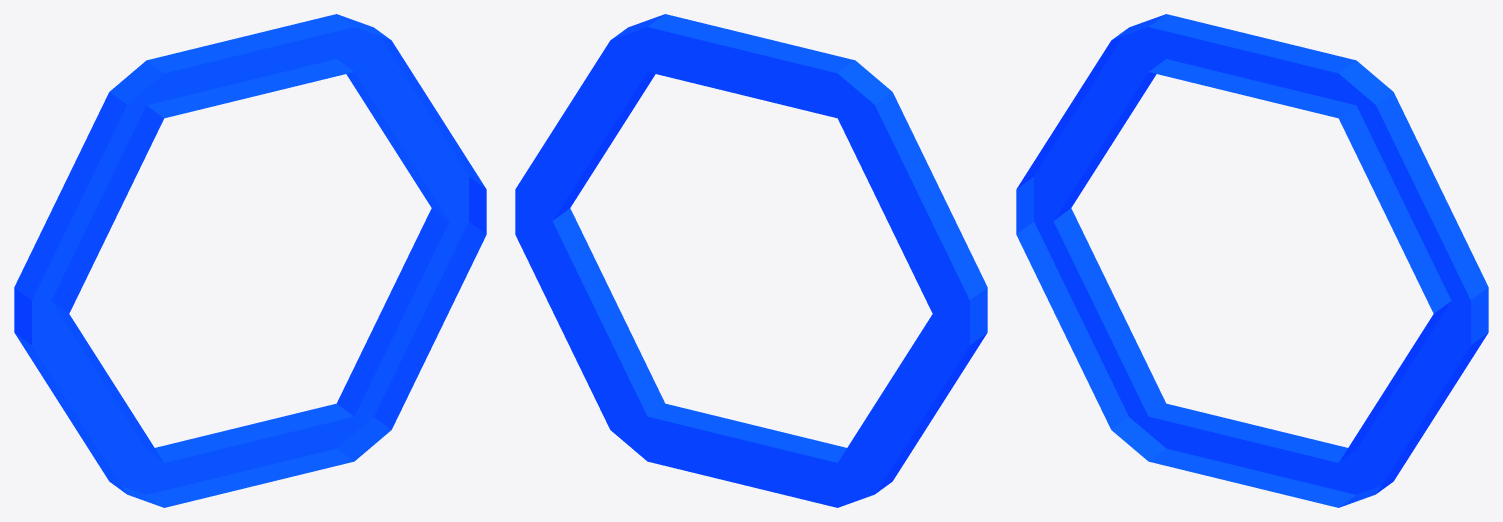
The model's file is HoneyComb.glb.
3 renders of one model, left to right at view 1: azimuth 30°, elevation 25°; view 2: azimuth 150°, elevation 25°; view 3: azimuth 330°, elevation 25°, orthographic.
Parts seen in each view (by area): view 1: HoneyComb; view 2: HoneyComb; view 3: HoneyComb.
Part boxes in pixels (x1,y1,x2,y2): HoneyComb: (14, 14, 486, 507); HoneyComb: (515, 14, 987, 507); HoneyComb: (1016, 14, 1488, 507).
Size of the model in its own units: 1.11 by 1.01 by 0.0751.
